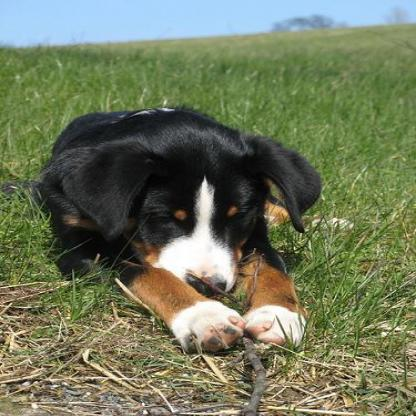Appenzeller: (29, 104, 322, 351)
